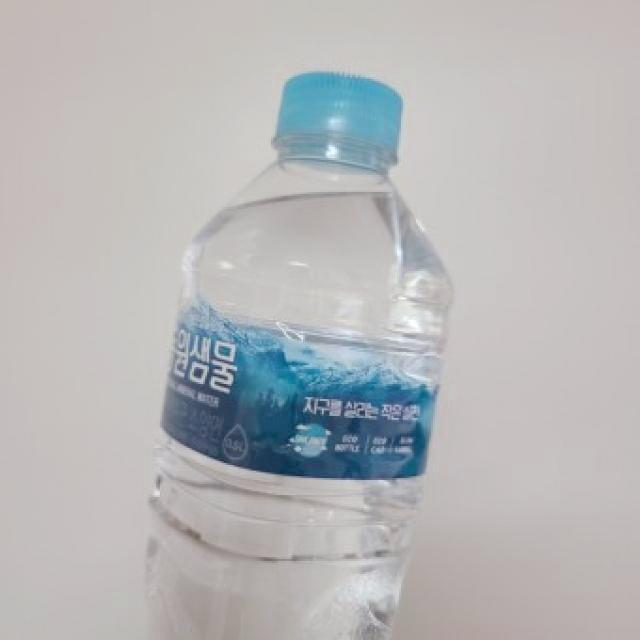bottle: (147, 71, 453, 637)
